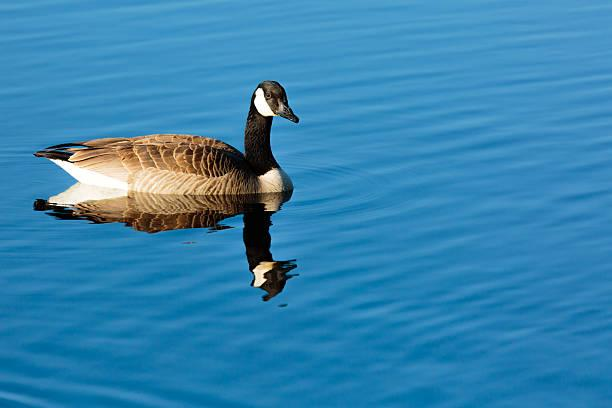Canadian-Goose: (36, 75, 300, 203)
